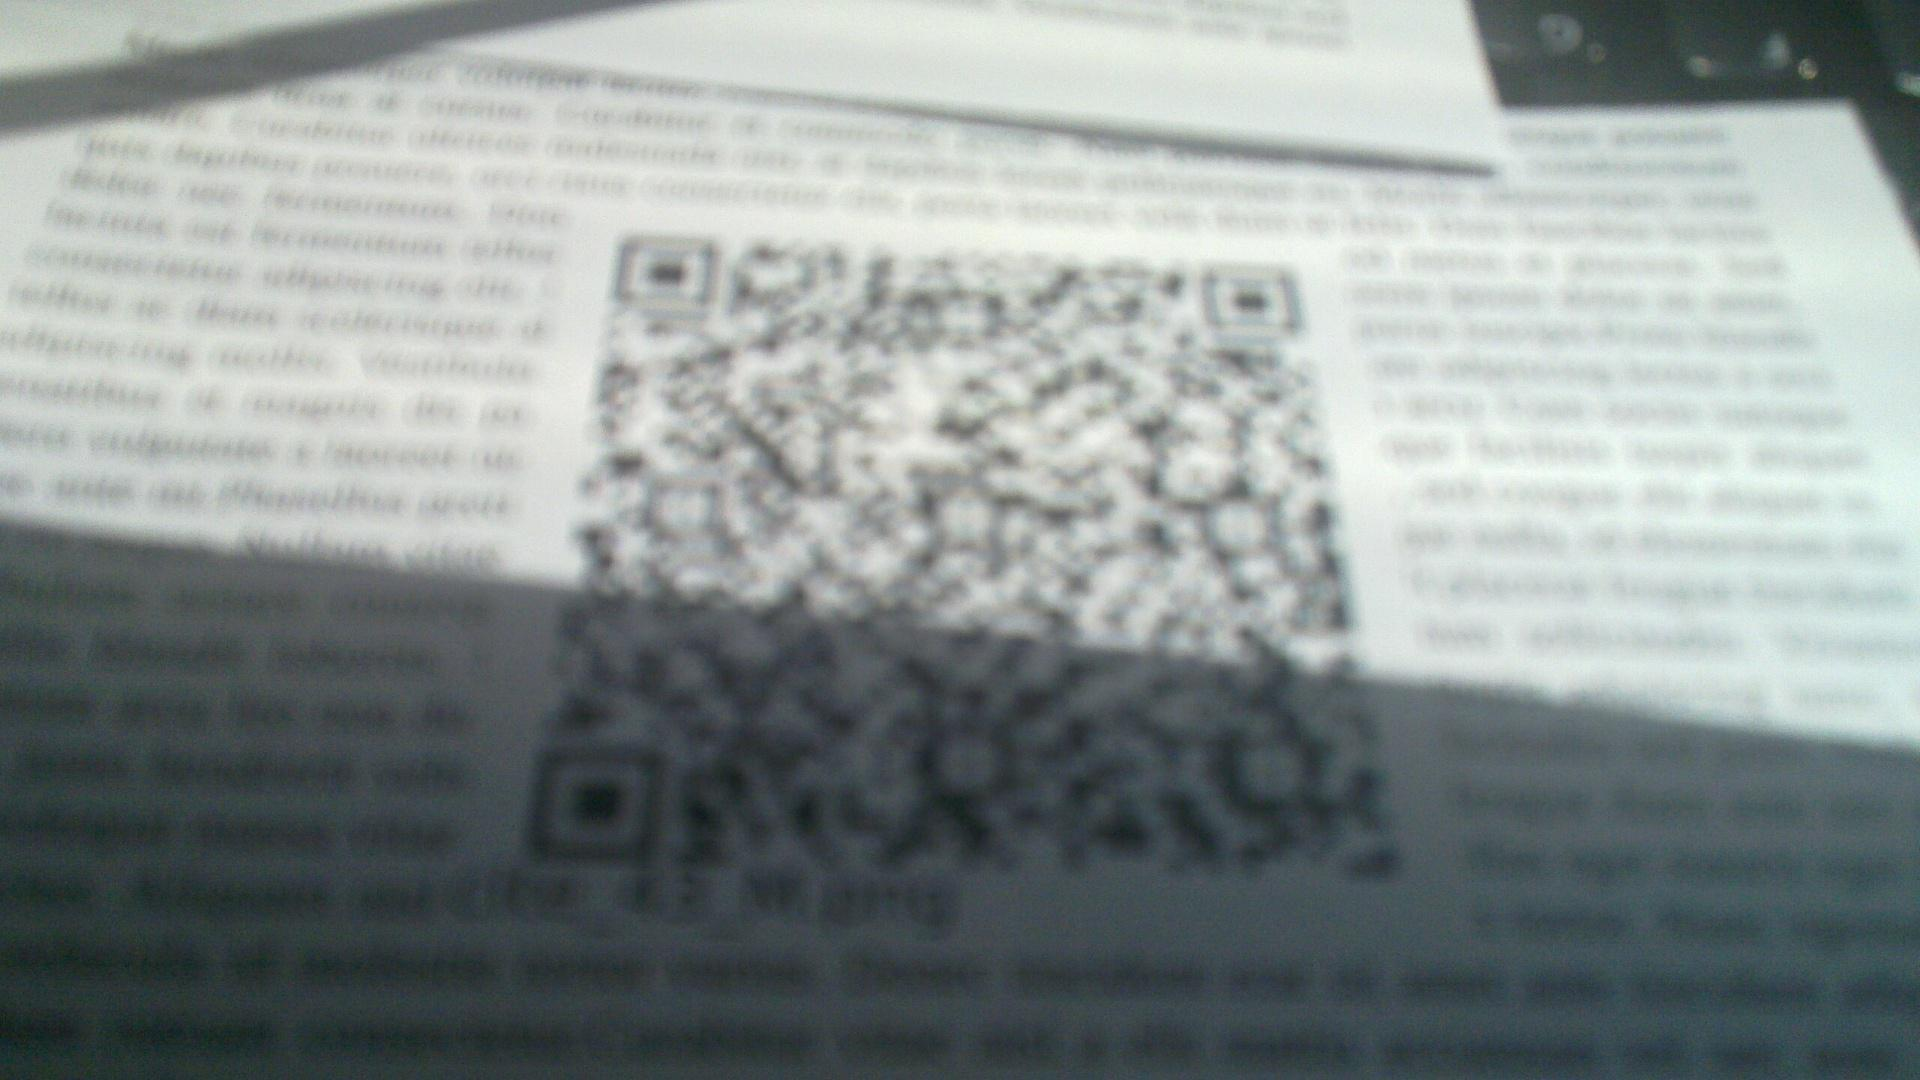Finder pattern: (518, 735, 667, 870), (609, 229, 727, 309), (1195, 258, 1308, 339)
